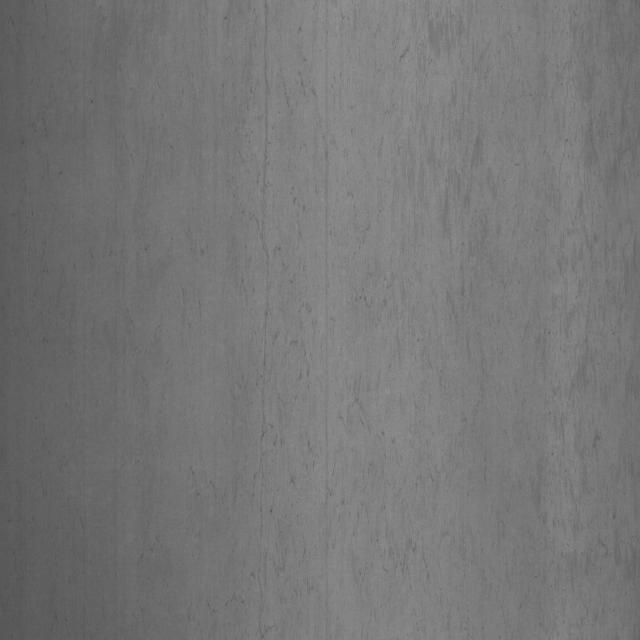inclusion: (243, 6, 634, 623)
